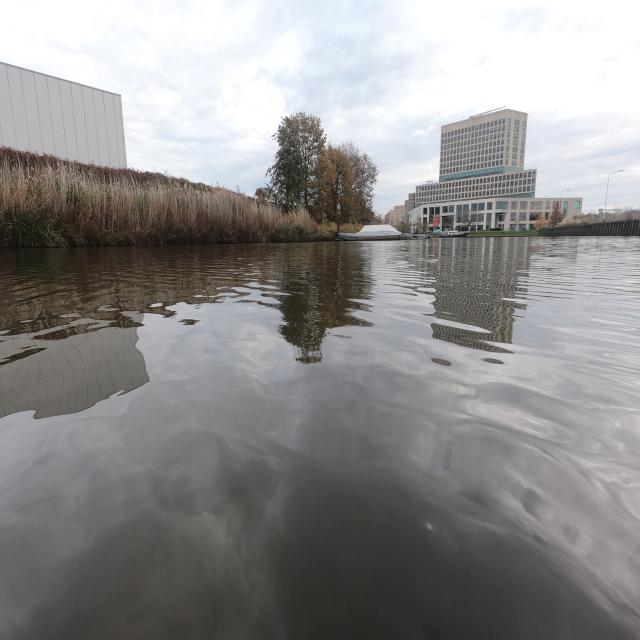boat: (338, 224, 401, 240), (440, 230, 468, 239)
reed: (0, 146, 330, 247)
wall: (539, 219, 640, 237)
water: (0, 233, 640, 640)
